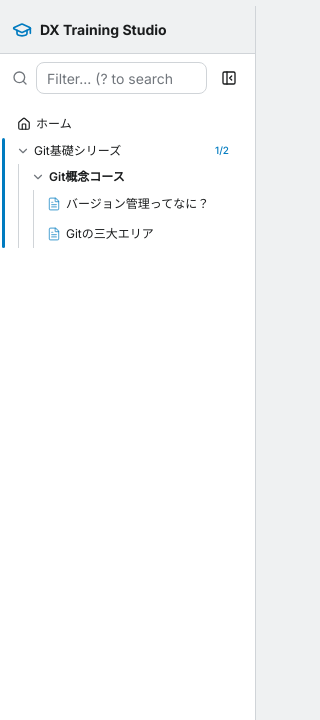
Test case: ContentTreePane › 未選択の閉じているシリーズ行のクリックは選択して展開する
chevron で畳んでからクリック
Click the button named "シリーズを折りたたむ".
click(23, 151)  # box [14,142,32,160]
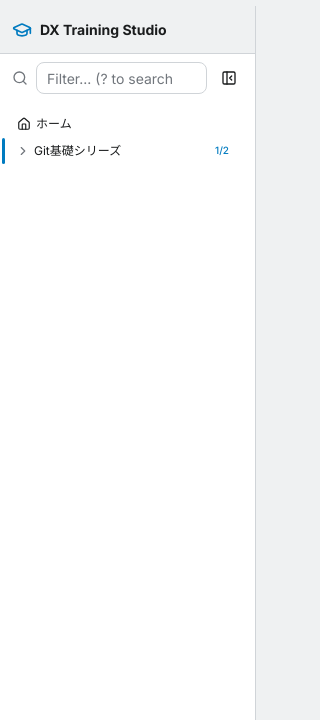
Check: the button "Git概念コース" is gone
Click the button "Git基礎シリーズ".
click(78, 150)  # box [34,143,121,158]
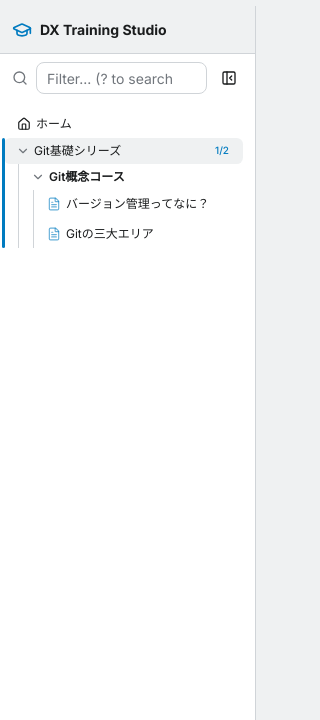
Check: the button "Git概念コース" is shown, box [49,169,125,184]
